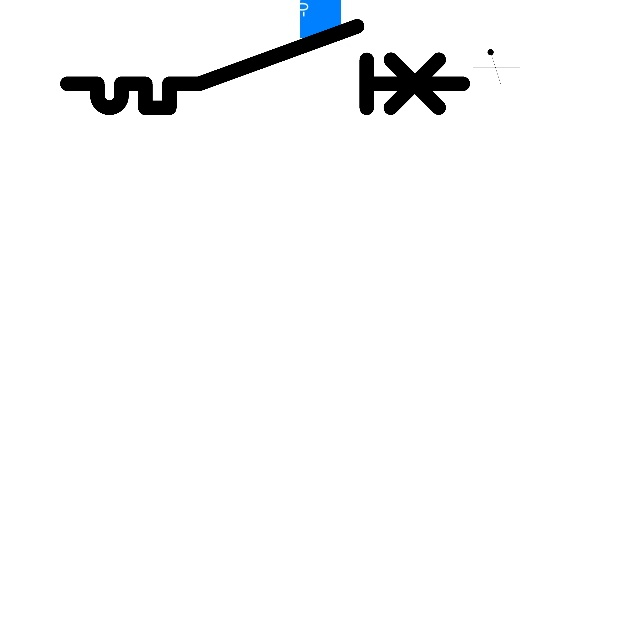interruptor_termomagnetico: (57, 16, 473, 118)
